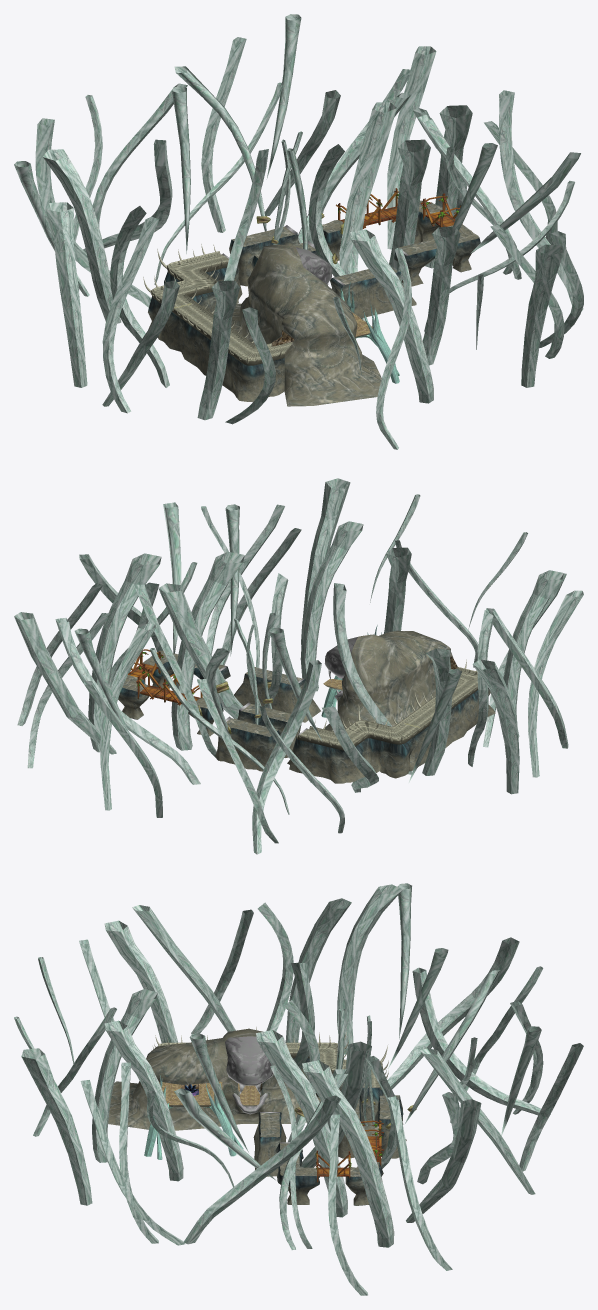
3 renders of one model, top to bottom at view 1: azimuth 30°, elevation 25°; view 2: azimuth 150°, elevation 25°; view 3: azimuth 270°, elevation 25°, orthographic. The views are drawn at different scales.
Parts seen in each view (by area): view 1: plant_big, wall_cave_outside, wall.012, plant_big2, road_skull, road_outside, bridge.004, plant_hand, snake, skull; view 2: plant_big, wall.012, wall_cave_outside, plant_big2, road_skull, road_outside, bridge.004, snake; view 3: plant_big, plant_big2, wall_cave_outside, wall.012, snake, road_outside, road_cave, plant_hand, bridge.004, road_skull.
Part boxes in pixels (left/top/right/bottom): plant_big: left=35, top=37, right=583, bottom=449; wall_cave_outside: left=231, top=244, right=381, bottom=406; wall.012: left=148, top=211, right=480, bottom=401; plant_big2: left=14, top=14, right=580, bottom=290; road_skull: left=151, top=251, right=292, bottom=365; road_outside: left=231, top=200, right=478, bottom=353; bridge.004: left=336, top=188, right=461, bottom=228; plant_hand: left=340, top=281, right=399, bottom=383; snake: left=291, top=246, right=331, bottom=285; skull: left=143, top=244, right=281, bottom=363; plant_big: left=14, top=478, right=583, bottom=854; wall.012: left=118, top=662, right=495, bottom=783; wall_cave_outside: left=324, top=630, right=453, bottom=731; plant_big2: left=74, top=502, right=462, bottom=782; road_skull: left=297, top=667, right=478, bottom=750; road_outside: left=122, top=650, right=302, bottom=736; bridge.004: left=128, top=649, right=202, bottom=705; snake: left=324, top=635, right=363, bottom=699; plant_big: left=14, top=884, right=583, bottom=1295; plant_big2: left=174, top=883, right=541, bottom=1180; wall_cave_outside: left=108, top=1028, right=320, bottom=1130; wall.012: left=253, top=1058, right=406, bottom=1205; snake: left=225, top=1036, right=273, bottom=1114; road_outside: left=260, top=1095, right=399, bottom=1176; road_cave: left=161, top=1081, right=259, bottom=1105; plant_hand: left=144, top=1075, right=243, bottom=1159; bridge.004: left=315, top=1120, right=383, bottom=1182; road_skull: left=158, top=1042, right=382, bottom=1089.
Bounding box in the file's own units: 89641 × 34928 × 91442.
Materials: 20 (20 with a texture image).
